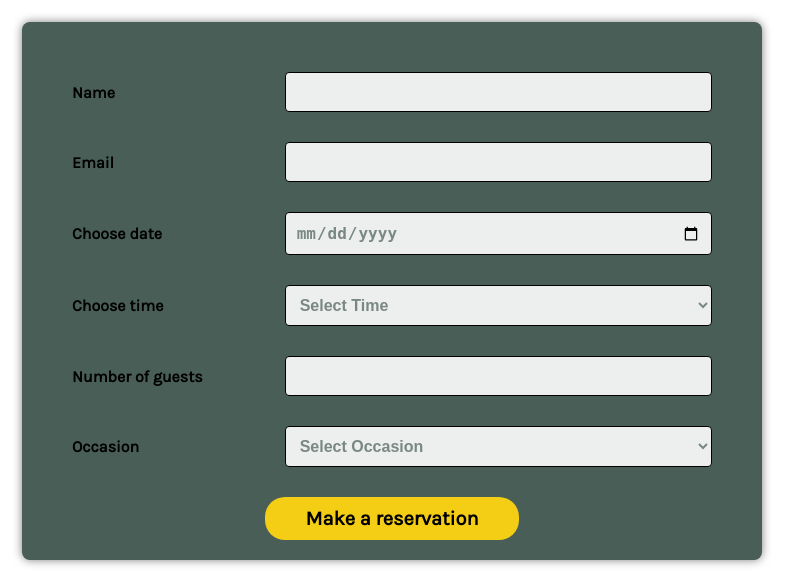
Test case: BookingForm Component › Validates JavaScript validation functions
Note: Validate email format
In the field labelled "Email": (498, 162) top-left (285, 142), bottom-right (712, 182), type "invalidemail"
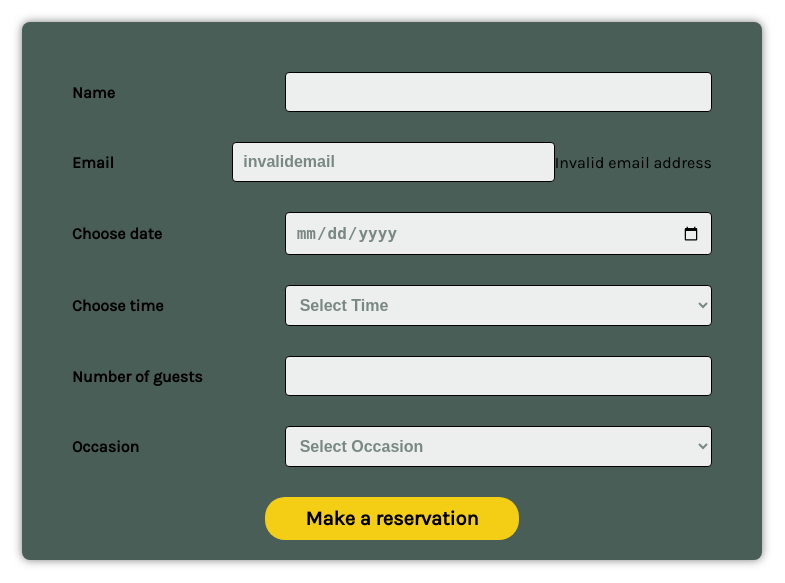
Now the text "Invalid email address" is shown, box top-left (555, 152), bottom-right (712, 172)
